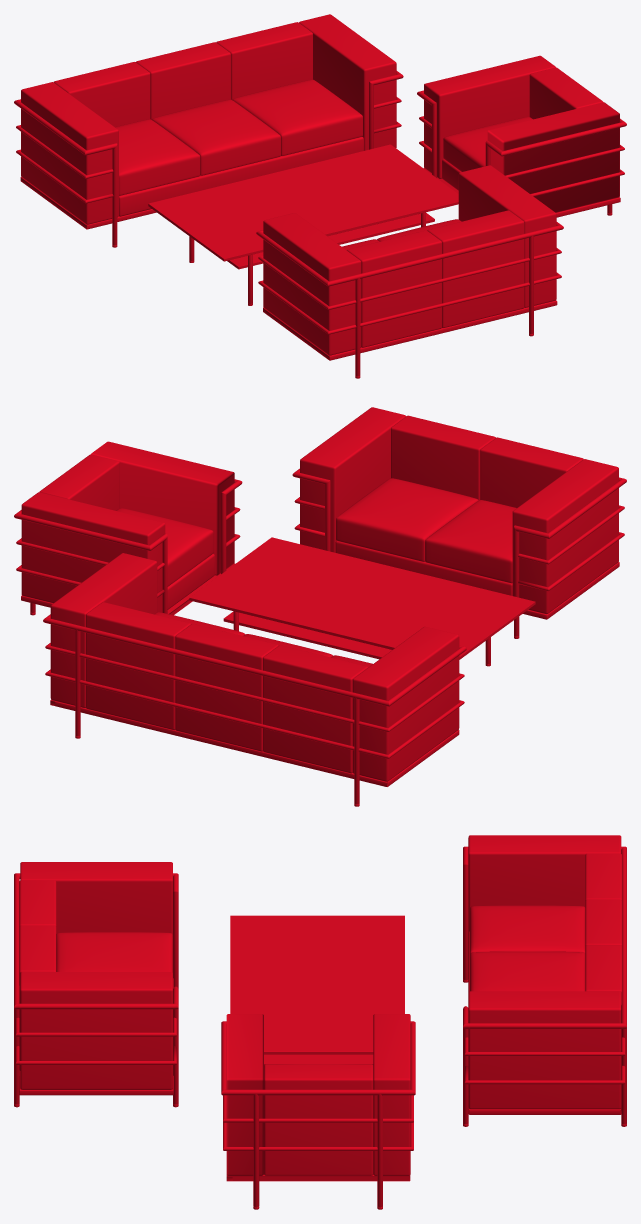
The model's file is sofa3.obj.
The picture shows the model from 3 angles, top to bottom: view 1: azimuth 30°, elevation 25°; view 2: azimuth 150°, elevation 25°; view 3: azimuth 270°, elevation 25°; orthographic projection. The views are drawn at different scales.
Parts seen in each view (by area): view 1: Box010, Box001, Box003, Box008, Object001, Object006, Object014, Object004, Box007, Object015, Box012, Cylinder001 (+3 smaller); view 2: Box001, Box010, Box008, Box003, Object012, Object015, Box012, Object014, Cylinder001, Object003, Box011, Box009 (+1 smaller); view 3: Box001, Box010, Box008, Box003, Cylinder001, Object004, Object015, Object014, Object006, Object012, Box012, Box009.
Part boxes in pixels (left/top/right/bottom): Box010: left=263, top=165, right=556, bottom=355; Box001: left=21, top=14, right=396, bottom=224; Box003: left=424, top=55, right=619, bottom=212; Box008: left=148, top=144, right=458, bottom=261; Object001: left=232, top=79, right=362, bottom=155; Object006: left=151, top=99, right=280, bottom=175; Object014: left=256, top=222, right=563, bottom=376; Object004: left=115, top=119, right=200, bottom=195; Box007: left=119, top=137, right=363, bottom=216; Object015: left=14, top=71, right=403, bottom=245; Box012: left=20, top=168, right=620, bottom=360; Cylinder001: left=417, top=90, right=626, bottom=213; Box001: left=50, top=553, right=459, bottom=781; Box010: left=300, top=407, right=618, bottom=614; Box008: left=189, top=537, right=535, bottom=659; Box003: left=21, top=441, right=234, bottom=612; Object012: left=336, top=478, right=516, bottom=583; Object015: left=43, top=614, right=466, bottom=804; Box012: left=21, top=562, right=619, bottom=786; Object014: left=292, top=468, right=626, bottom=636; Cylinder001: left=14, top=479, right=242, bottom=613; Object003: left=116, top=508, right=213, bottom=586; Box011: left=335, top=541, right=512, bottom=595; Box009: left=223, top=611, right=391, bottom=659; Box001: left=468, top=835, right=622, bottom=1109; Box010: left=19, top=862, right=172, bottom=1089; Box008: left=230, top=915, right=404, bottom=1054; Box003: left=226, top=1014, right=410, bottom=1175; Cylinder001: left=221, top=1021, right=415, bottom=1207; Object004: left=470, top=905, right=585, bottom=954; Object015: left=463, top=846, right=626, bottom=1124; Object014: left=14, top=873, right=178, bottom=1104; Object006: left=470, top=951, right=585, bottom=991; Object012: left=56, top=932, right=172, bottom=972; Box012: left=19, top=978, right=621, bottom=1181; Box009: left=264, top=1054, right=373, bottom=1064.
Size of the model in its own units: 102 by 25.61 by 108.
1 material, 1 textured.
